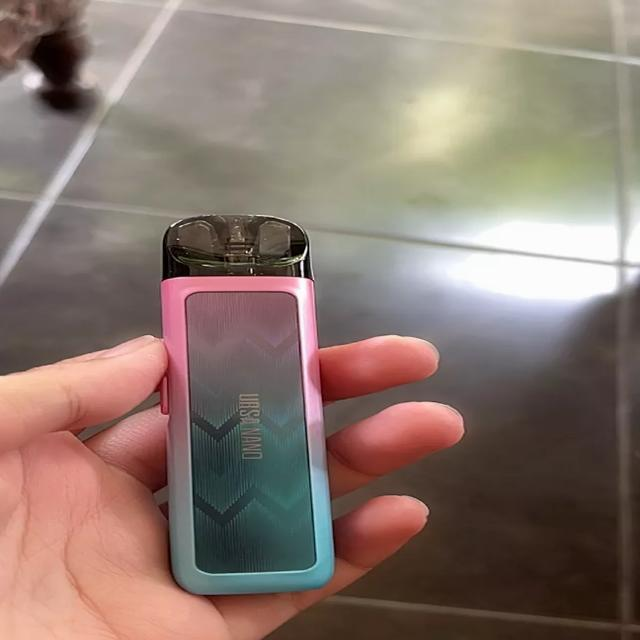Hazard: (154, 210, 332, 596)
